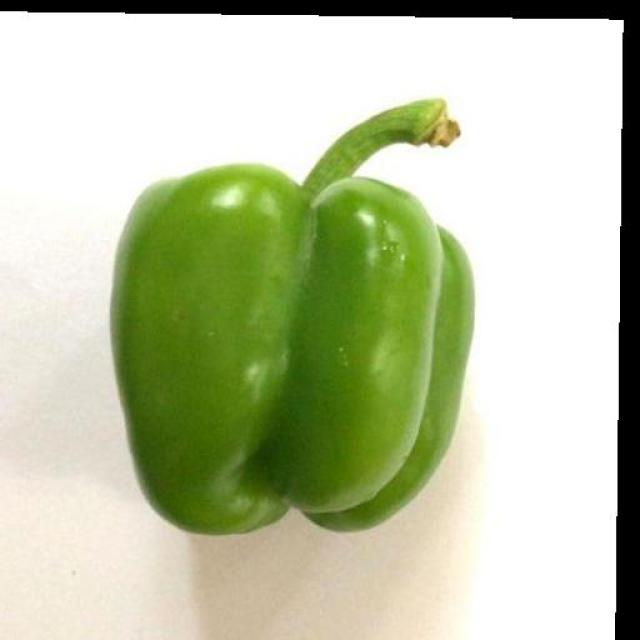Fresh_Capsicum: (133, 146, 442, 532)
